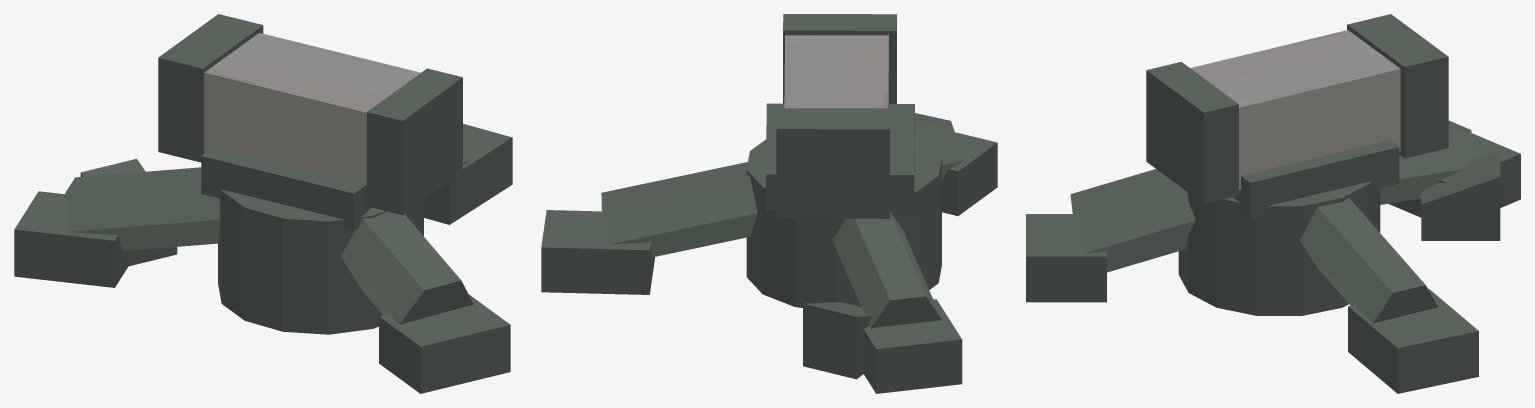
Rendered from Building_AncientSecurityTurret.glb.
The picture shows the model from 3 angles, left to right: view 1: azimuth 30°, elevation 25°; view 2: azimuth 150°, elevation 25°; view 3: azimuth 270°, elevation 25°; orthographic projection. The views are drawn at different scales.
Parts seen in each view (by area): view 1: AncientSecurityTurret; view 2: AncientSecurityTurret; view 3: AncientSecurityTurret.
Part boxes in pixels (x1,y1,x2,y2): AncientSecurityTurret: (14, 14, 512, 393); AncientSecurityTurret: (541, 14, 997, 393); AncientSecurityTurret: (1026, 14, 1520, 393).
Size of the model in its own units: 1.04 by 0.46 by 0.98.
Materials: 1 (1 with a texture image).
